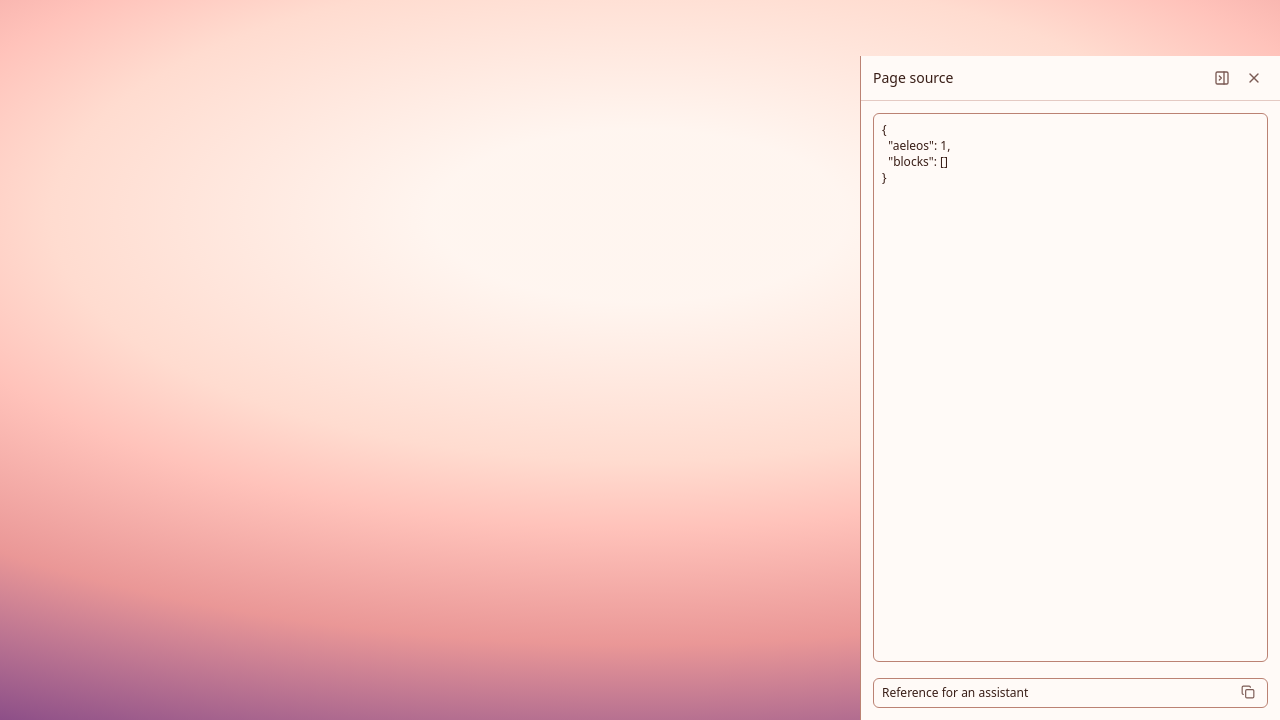
Test: PageSourceDock › renders the reference and copies it
Step 1. Click the button named "Copy reference" → (1248, 692), box [1235, 683, 1261, 701]
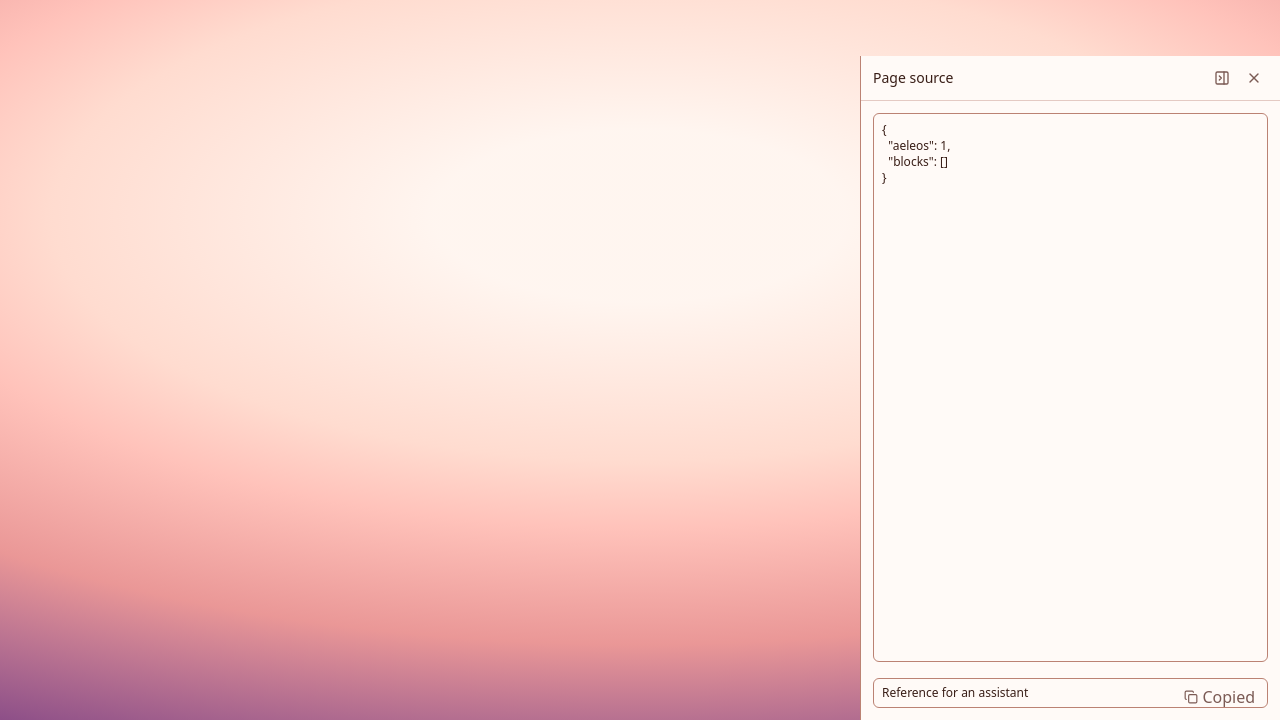
Expected: the button "Copied" is shown, [1178, 683, 1261, 711]
